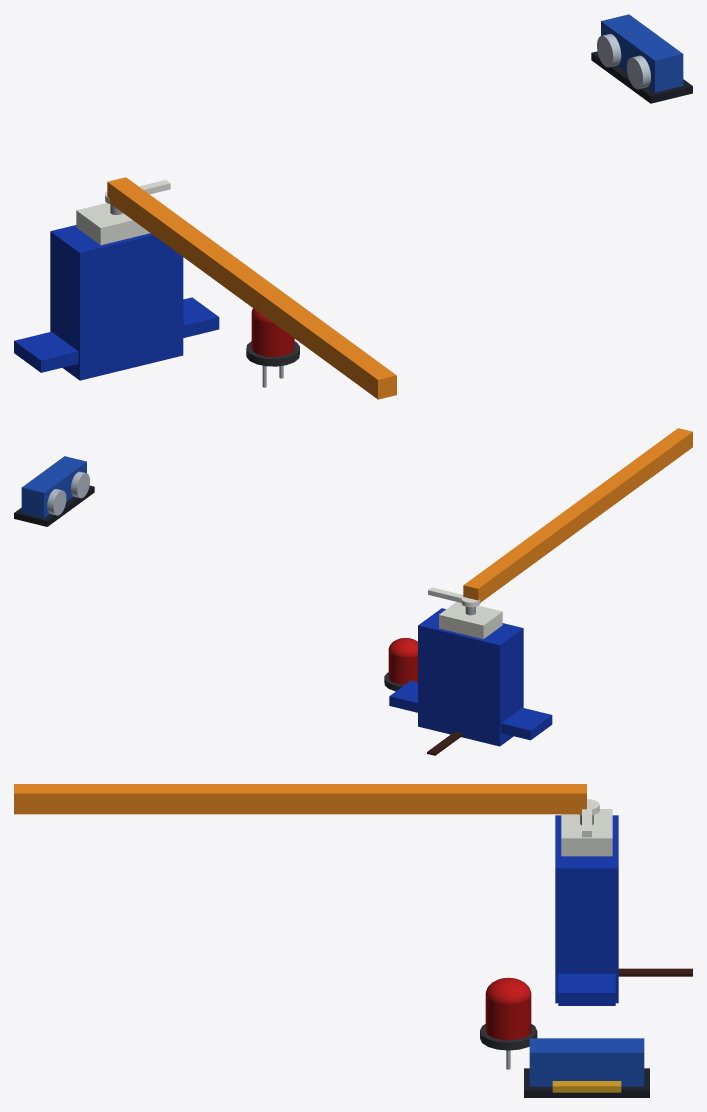
The model's file is virtual.glb.
3 renders of one model, top to bottom at view 1: azimuth 30°, elevation 25°; view 2: azimuth 150°, elevation 25°; view 3: azimuth 270°, elevation 25°, orthographic. The views are drawn at different scales.
Visible parts, largest first — view 1: ServoBody, Rod, Body, ServoTop, ServoMountLeft, LedBarrel, Mount, ServoMountRight, LeftEye, RightEye, LedBase; view 2: ServoBody, Rod, Body, ServoTop, ServoMountLeft, LedBarrel, Mount, ServoMountRight, LedDome; view 3: Rod, ServoBody, Body, ServoTop, ServoMountRight, LedBarrel, Mount, LedDome, Pins, LedBase, ServoCable.
Part boxes in pixels (x1,y1,x2,y2): ServoBody: [50, 225, 183, 380]; Rod: [107, 177, 396, 399]; Body: [601, 14, 683, 92]; ServoTop: [76, 203, 150, 245]; ServoMountLeft: [14, 331, 78, 372]; LedBarrel: [251, 314, 294, 356]; Mount: [591, 51, 692, 103]; ServoMountRight: [183, 297, 219, 337]; LeftEye: [597, 34, 621, 67]; RightEye: [626, 55, 650, 89]; LedBase: [246, 341, 299, 366]; ServoBody: [418, 608, 523, 746]; Rod: [463, 428, 692, 602]; Body: [21, 456, 86, 517]; ServoTop: [439, 602, 502, 639]; ServoMountLeft: [501, 707, 552, 740]; LedBarrel: [388, 651, 417, 684]; Mount: [14, 485, 94, 526]; ServoMountRight: [389, 680, 417, 712]; LedDome: [388, 638, 417, 658]; Rod: [14, 784, 586, 814]; ServoBody: [555, 815, 618, 1003]; Body: [529, 1038, 644, 1086]; ServoTop: [561, 809, 612, 856]; ServoMountRight: [558, 973, 615, 1005]; LedBarrel: [485, 995, 531, 1040]; Mount: [524, 1068, 649, 1097]; LedDome: [485, 977, 531, 1004]; Pins: [552, 1081, 621, 1092]; LedBase: [480, 1024, 537, 1050]; ServoCable: [618, 968, 692, 976].
Size of what is drawn, in the model's own units: 1.36 by 0.45 by 1.19.
